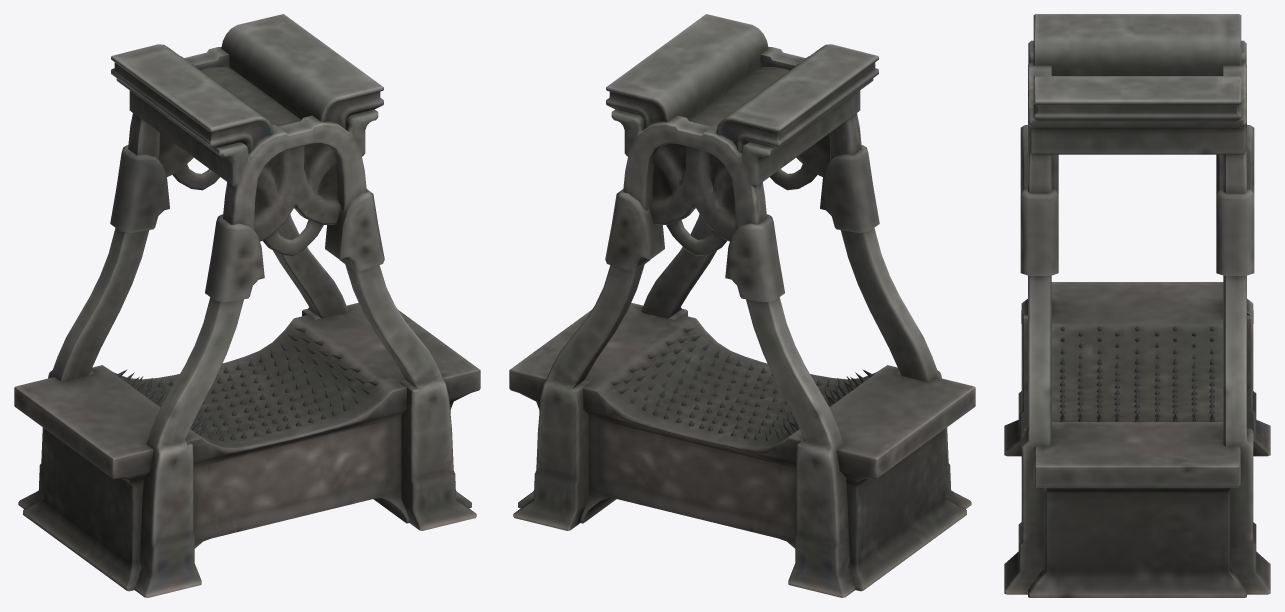
The model's file is carding_machine.glb.
3 views of the same model, side by side, from view 1: azimuth 30°, elevation 25°; view 2: azimuth 150°, elevation 25°; view 3: azimuth 270°, elevation 25° (orthographic). The views are drawn at different scales.
Parts seen in each view (by area): view 1: npc_props_carding_machine_airborn_a; view 2: npc_props_carding_machine_airborn_a; view 3: npc_props_carding_machine_airborn_a.
Part boxes in pixels (bbox=[...]): npc_props_carding_machine_airborn_a: bbox=[14, 14, 480, 597]; npc_props_carding_machine_airborn_a: bbox=[509, 14, 975, 597]; npc_props_carding_machine_airborn_a: bbox=[1004, 14, 1270, 597].
Size of the model in its own units: 2.1 by 2.39 by 1.27.
1 material, 1 textured.
